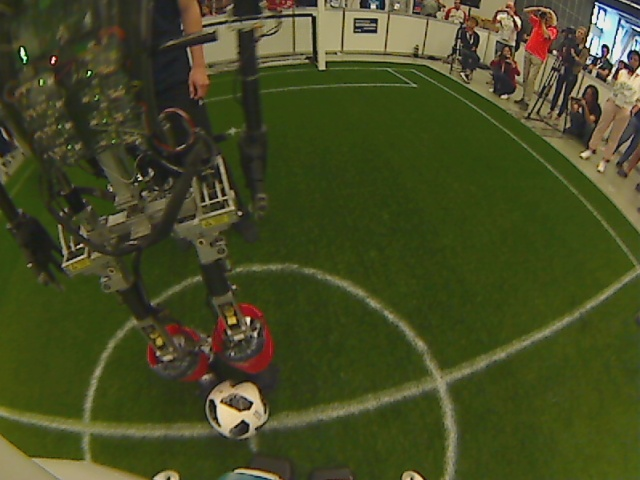ball: (203, 373, 275, 442)
